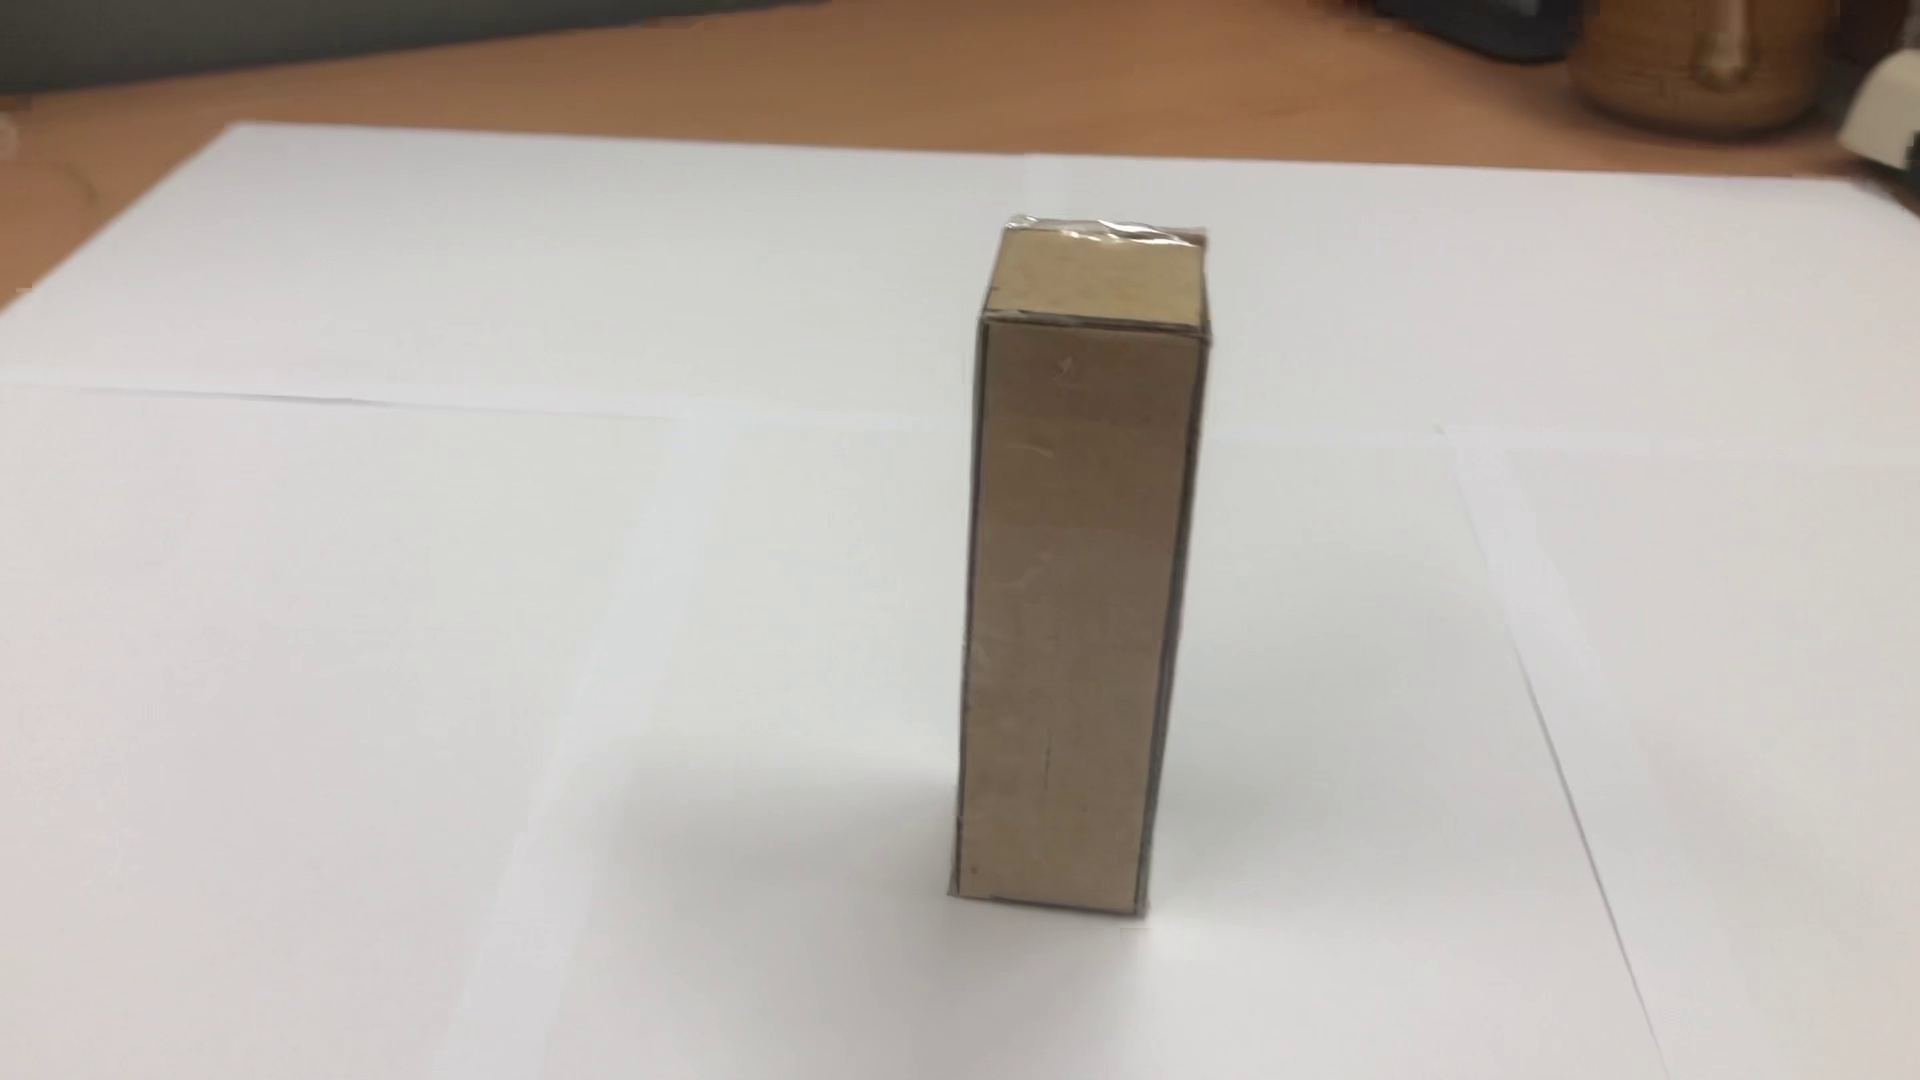box: (938, 198, 1226, 948)
